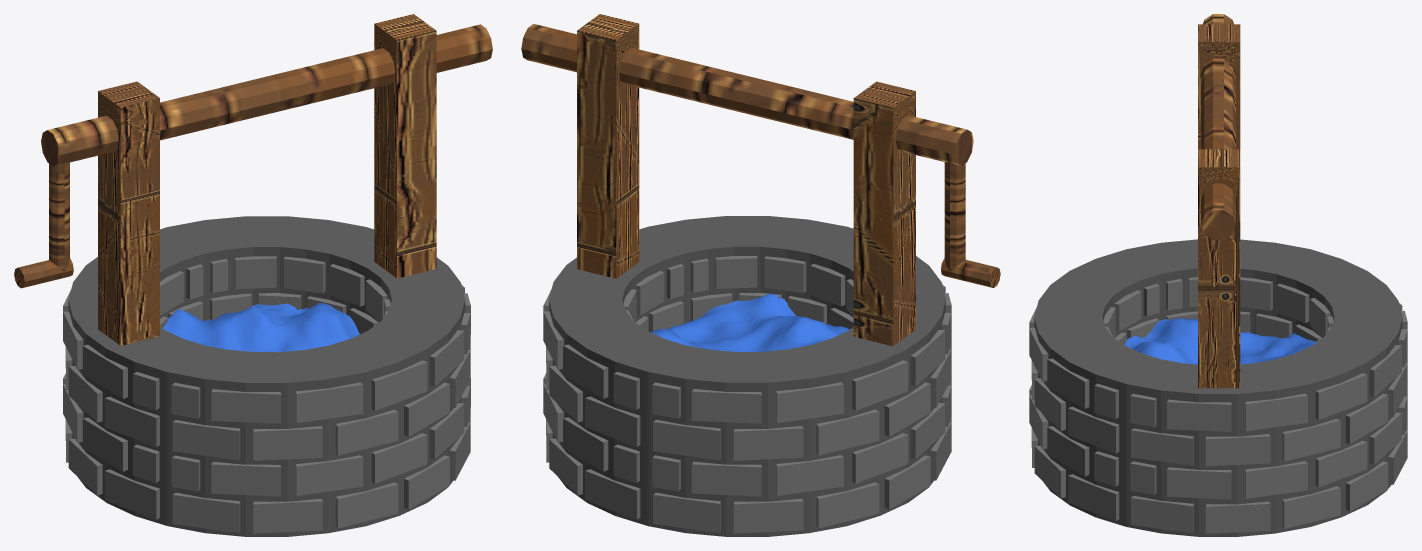
The model's file is brunnen.fbx.
3 renders of one model, left to right at view 1: azimuth 30°, elevation 25°; view 2: azimuth 150°, elevation 25°; view 3: azimuth 270°, elevation 25°, orthographic. The views are drawn at different scales.
Visible parts, largest first — view 1: wall, Cylinder.002, Plane; view 2: wall, Cylinder.002, Plane; view 3: wall, Cylinder.002, Plane.
Part boxes in pixels (bbox=[...]): wall: bbox=[63, 216, 470, 536]; Cylinder.002: bbox=[14, 14, 492, 345]; Plane: bbox=[163, 303, 359, 352]; wall: bbox=[543, 216, 951, 536]; Cylinder.002: bbox=[521, 14, 1000, 346]; Plane: bbox=[650, 293, 849, 351]; wall: bbox=[1029, 239, 1407, 536]; Cylinder.002: bbox=[1198, 14, 1240, 388]; Plane: bbox=[1124, 318, 1317, 364].
Bounding box in the file's own units: 158 × 127 × 120.
